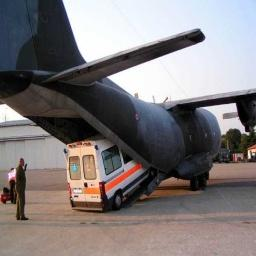Ambulance: (66, 138, 162, 210)
